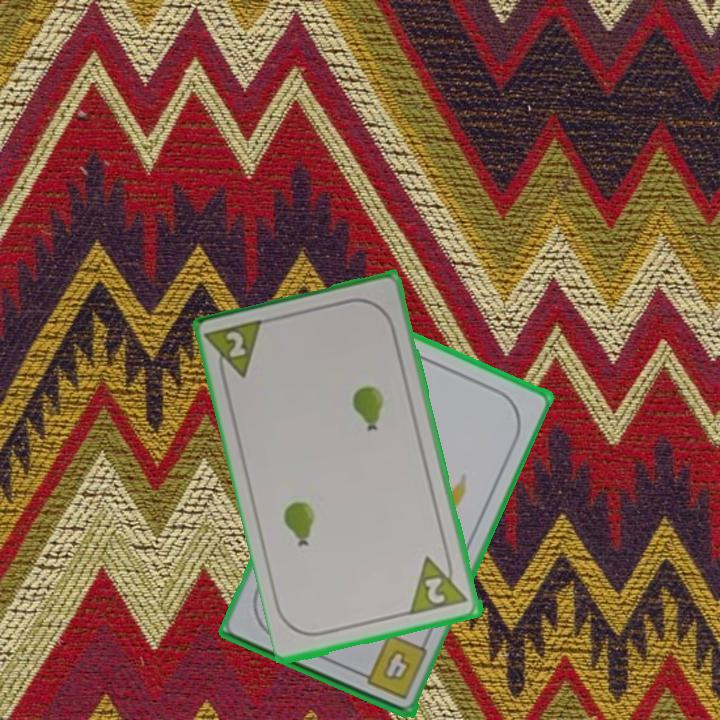2p: (204, 316, 268, 387), (421, 574, 449, 607)
4b: (352, 630, 430, 702)
